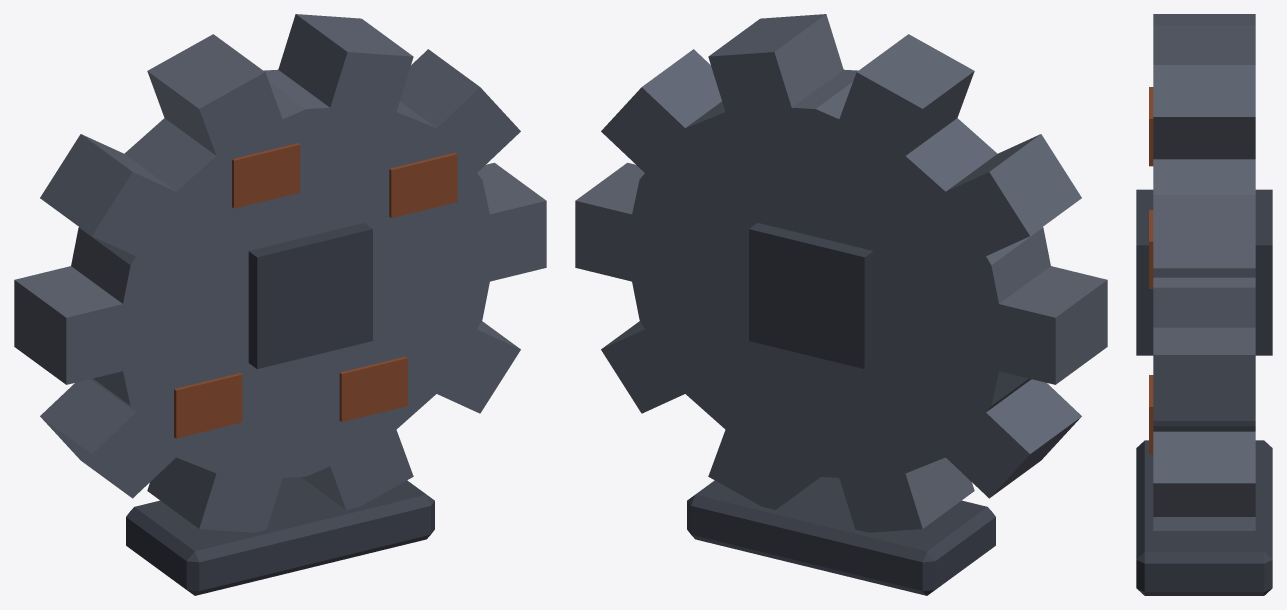
The model's file is env_r3_gear_large.glb.
The picture shows the model from 3 angles, left to right: view 1: azimuth 30°, elevation 25°; view 2: azimuth 150°, elevation 25°; view 3: azimuth 270°, elevation 25°; orthographic projection.
Parts seen in each view (by area): view 1: env_r3_gear_large; view 2: env_r3_gear_large; view 3: env_r3_gear_large.
Boxes of the visible parts, x1,y1,x2,y2 form: env_r3_gear_large: (14, 14, 546, 595); env_r3_gear_large: (575, 14, 1107, 595); env_r3_gear_large: (1136, 14, 1272, 595).
Bounding box in the file's own units: 3.2 × 3.2 × 0.8.
Materials: 1 (1 with a texture image).
